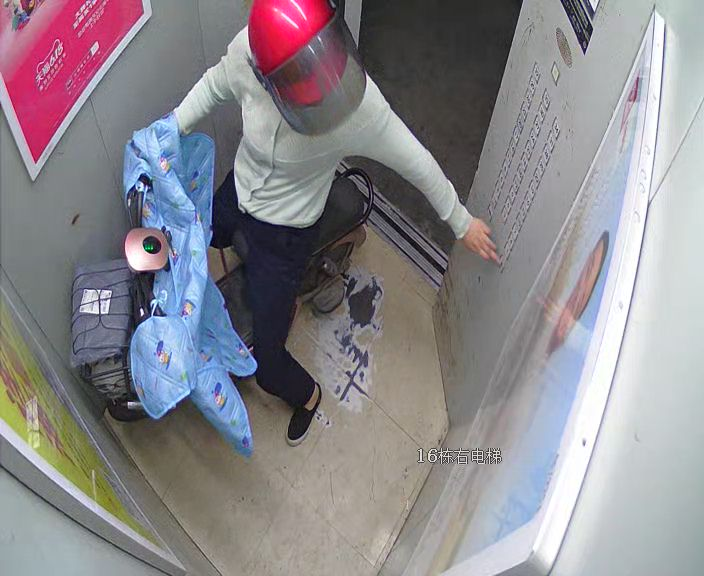Electric-bicycle: (72, 130, 375, 421)
